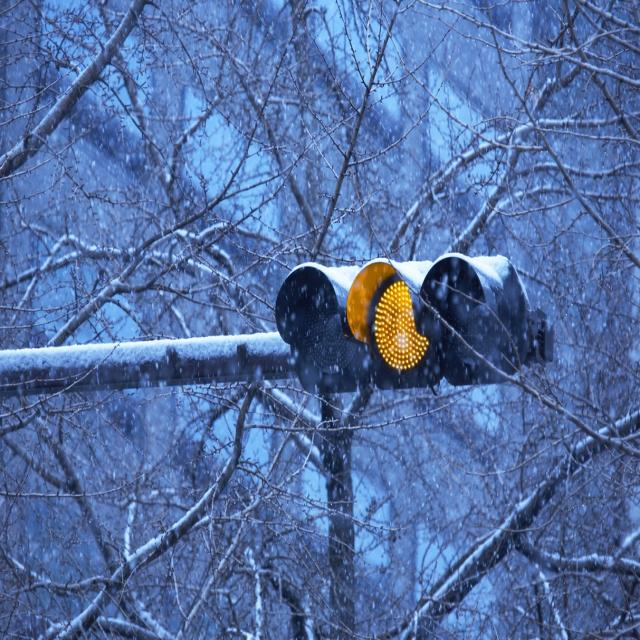yellow light: (277, 259, 530, 384), (275, 260, 529, 384)
